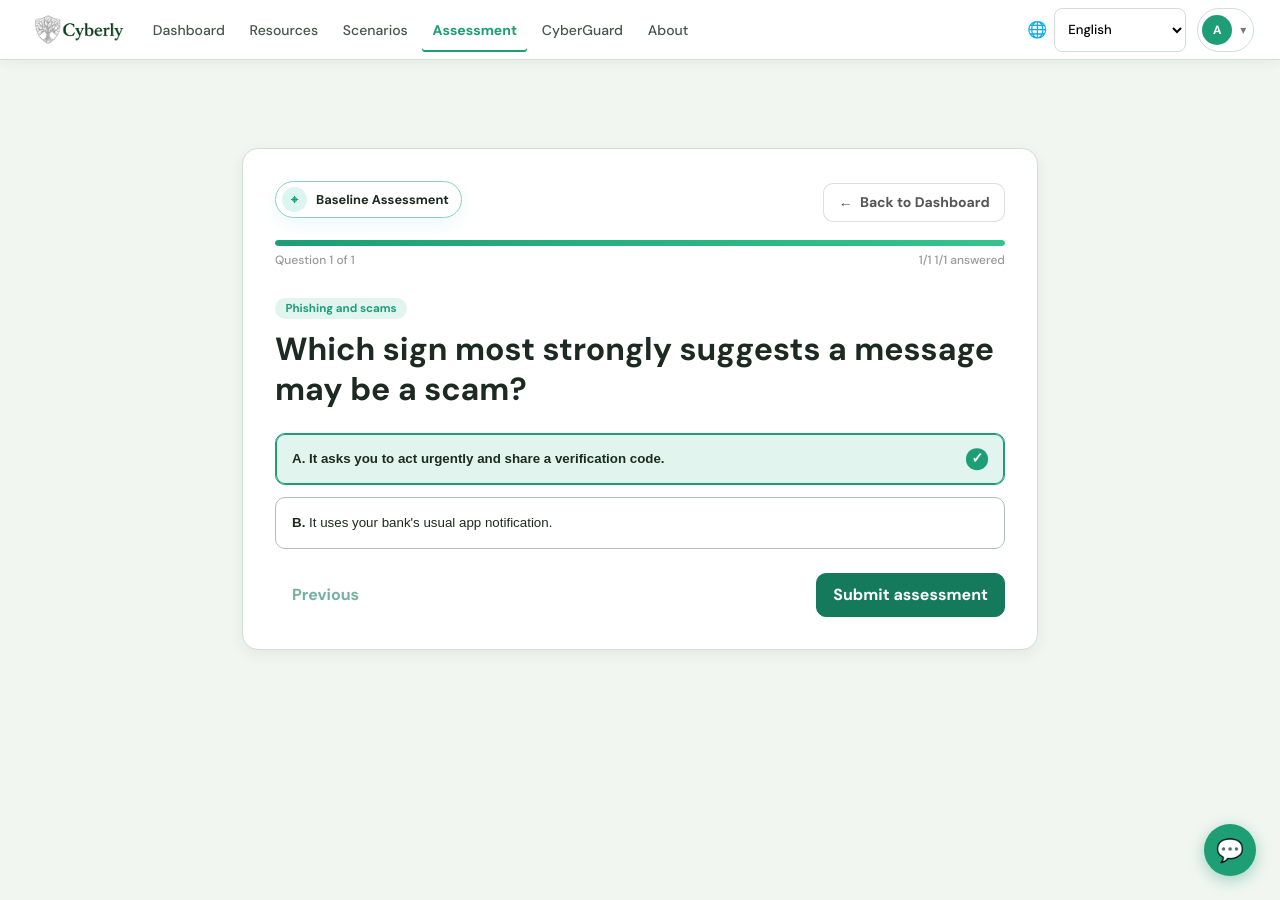
Scenario: Assessment final visual migration › active Assessment save errors retain the valid attempt instead of ordinary-load recovery
Expected: the heading "Which sign most strongly suggests a message may be a scam?" is shown, [275,329,1005,409]
Click the button "B. It uses your bank's usual app notification.": (431, 523) [275,497,1005,549]
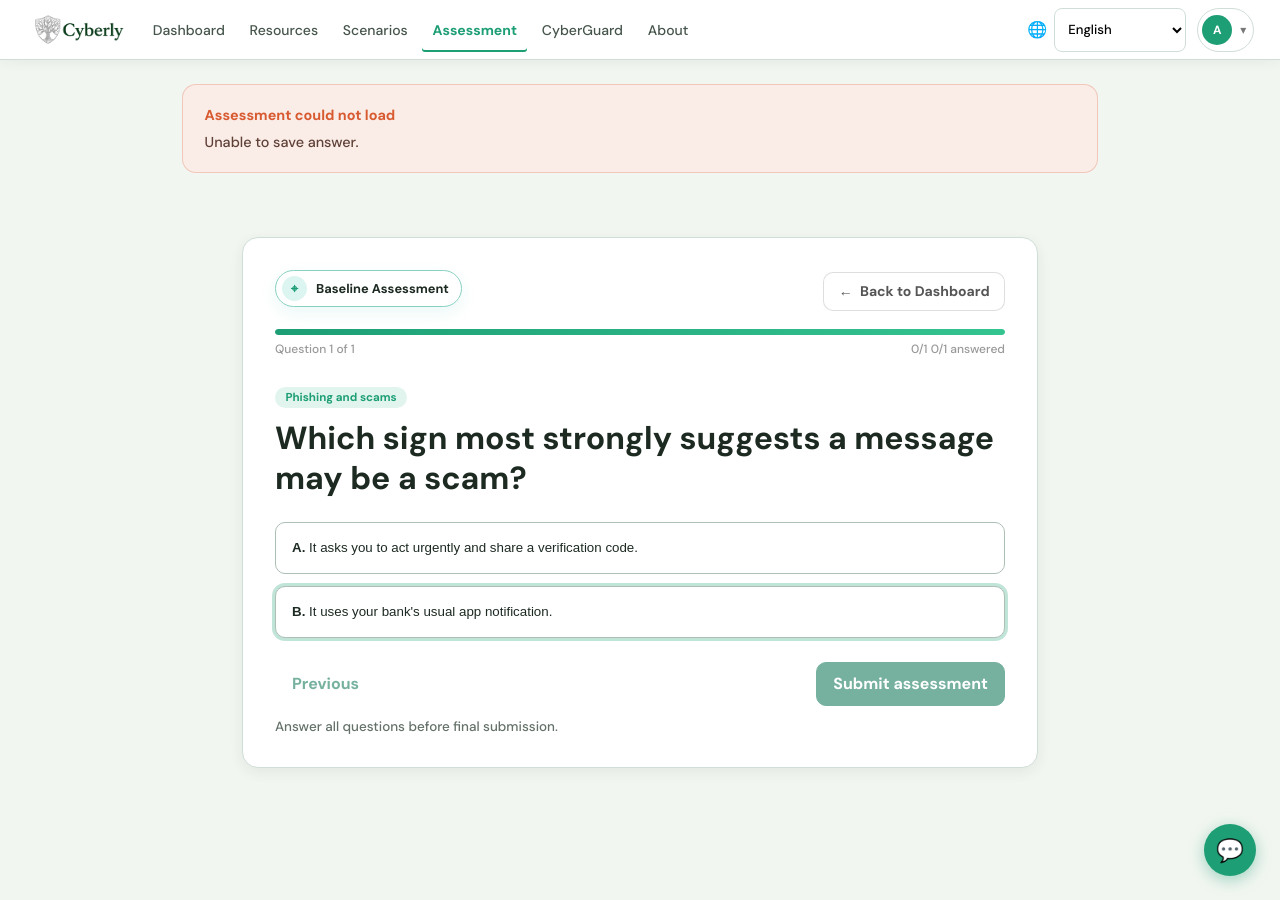
Expected: the heading "Which sign most strongly suggests a message may be a scam?" is shown, [275,418,1005,498]
Expected: the message "Assessment could not load Unable to save answer." is shown, [182,84,1098,173]
